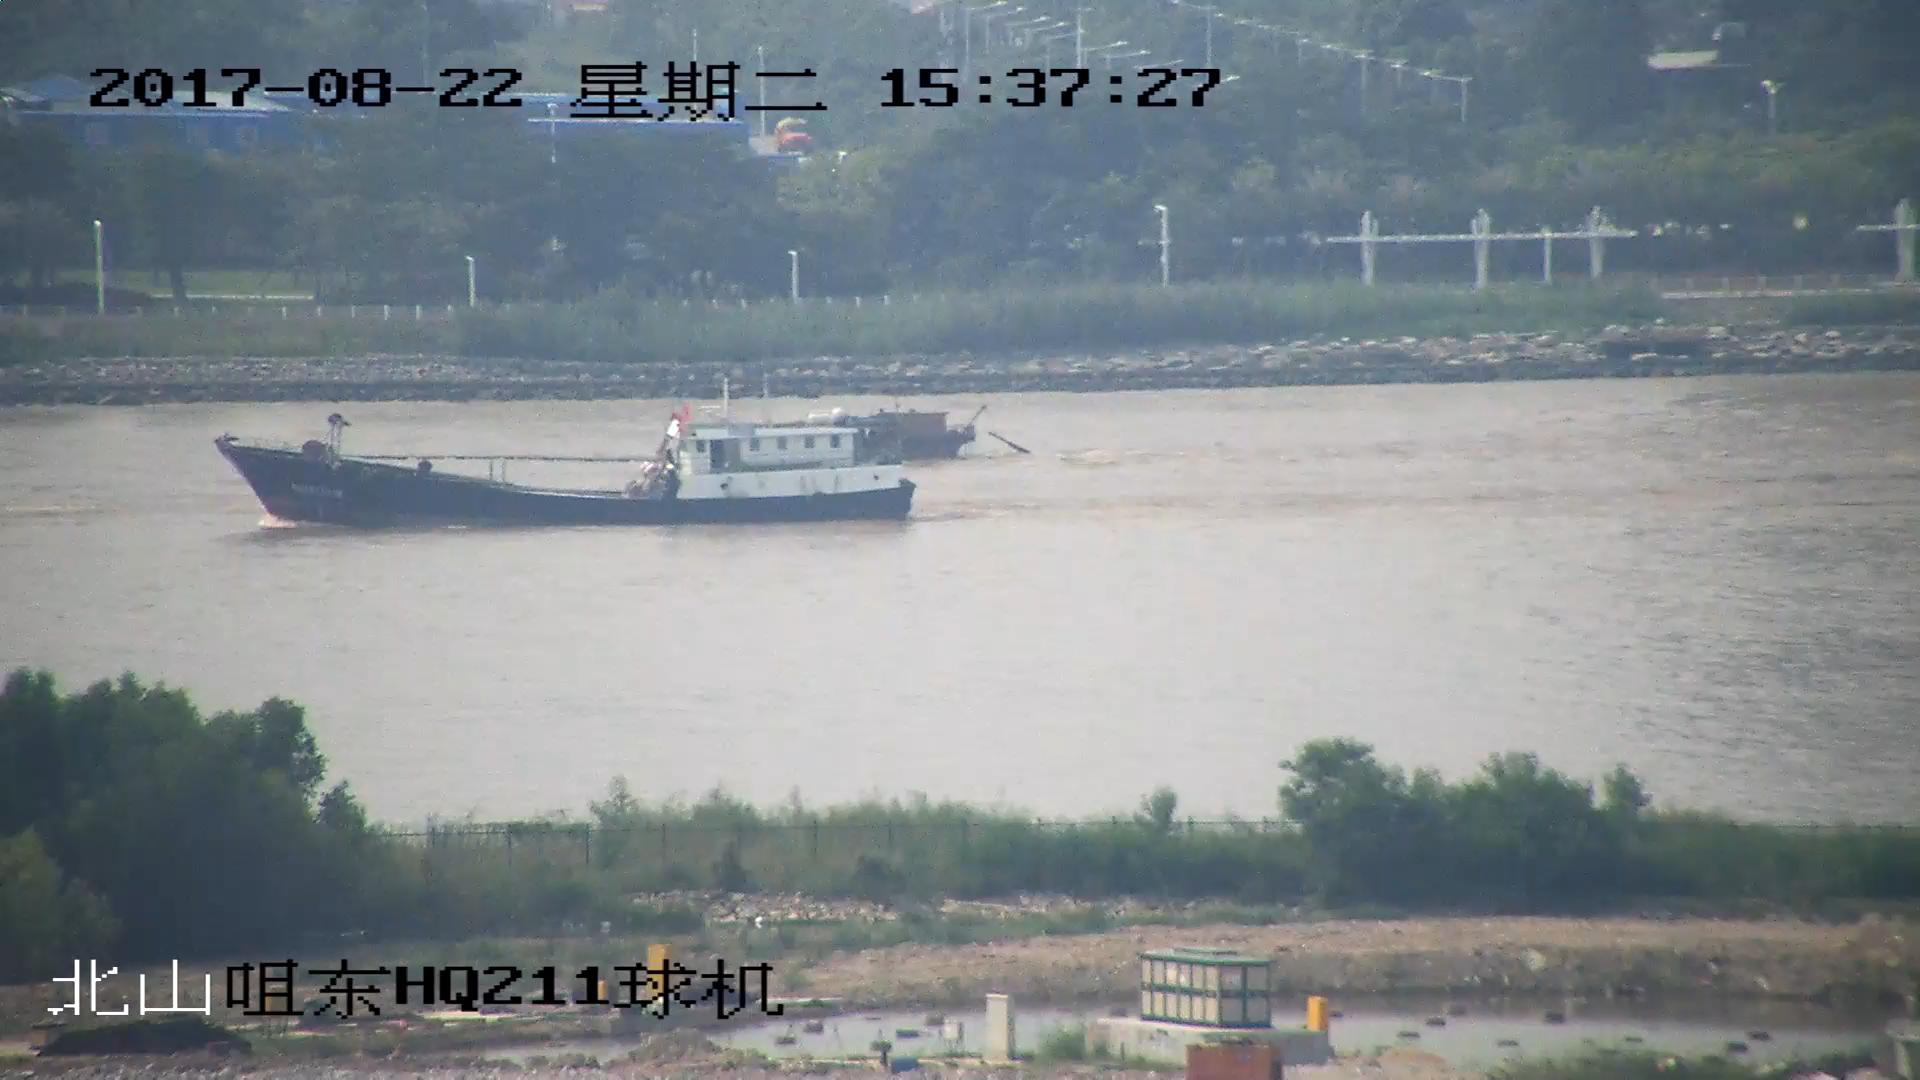fishing boat: (219, 418, 916, 522), (789, 410, 1029, 469)
